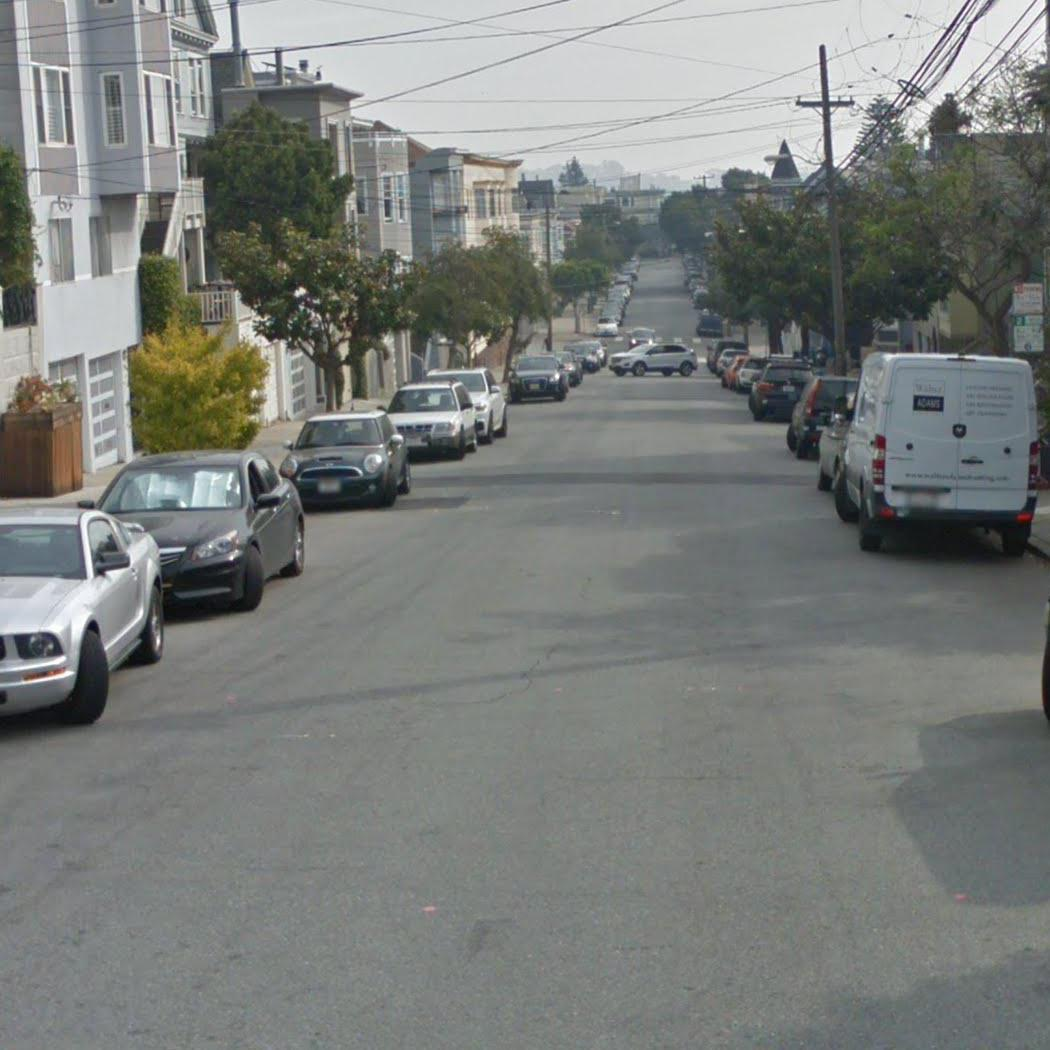2 Hour Parking: (1011, 312, 1047, 356)
No Parking: (1012, 280, 1046, 312)
